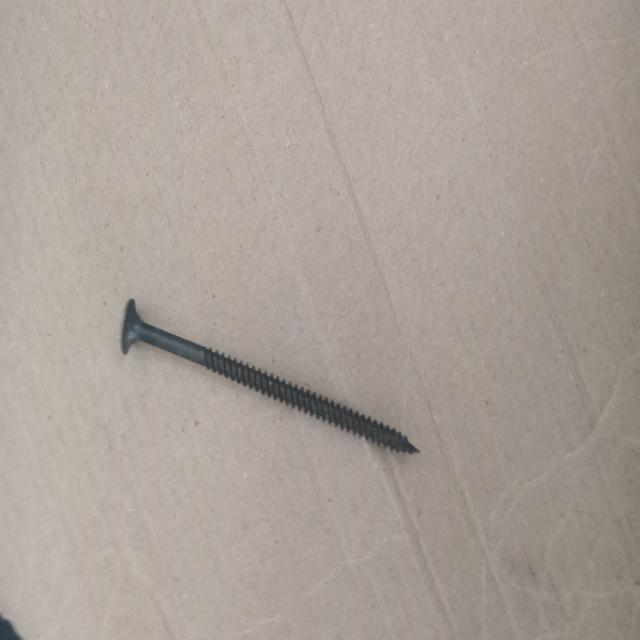screw: (120, 297, 422, 454)
